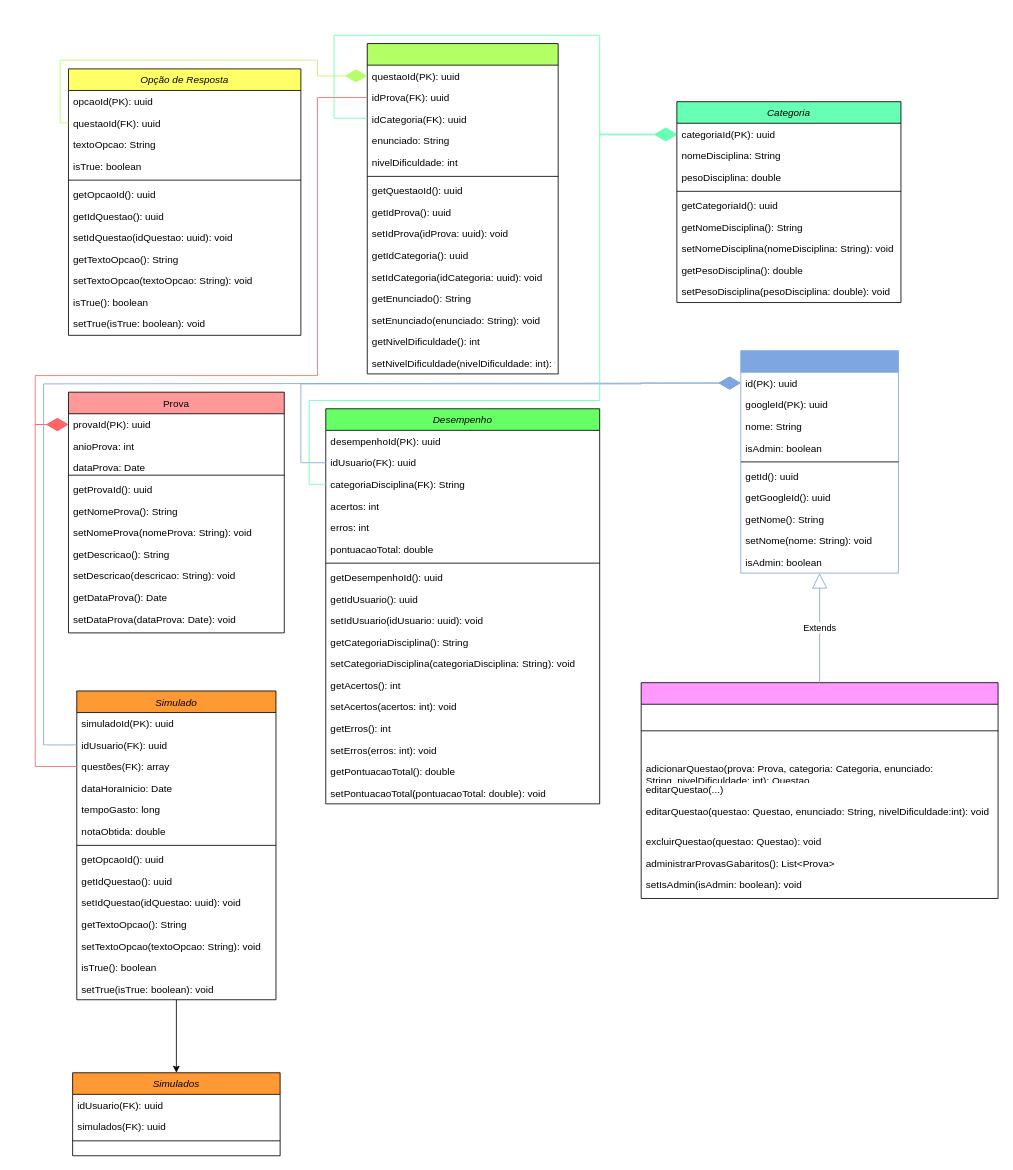
Image size: 1013x1170. Some labels were removed from this diagram. Here are the shapes that lost their labels. From the top down, the box of each, then its label:
(366, 43, 558, 374): Questão
(740, 350, 898, 573): Usuário
(640, 682, 998, 898): Administrador
